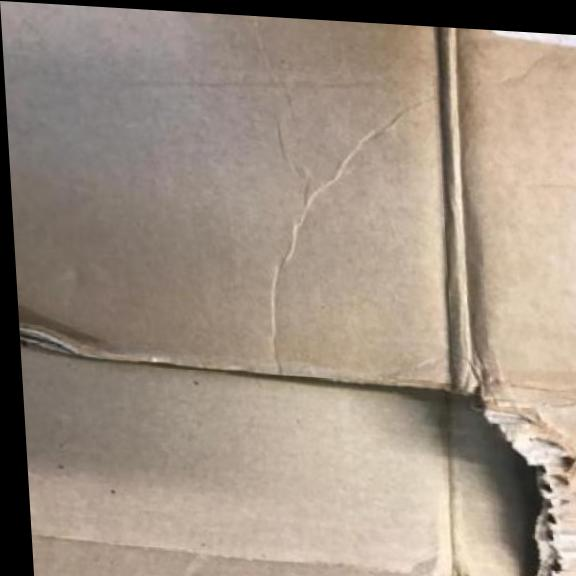Kertas: (0, 2, 576, 576)
